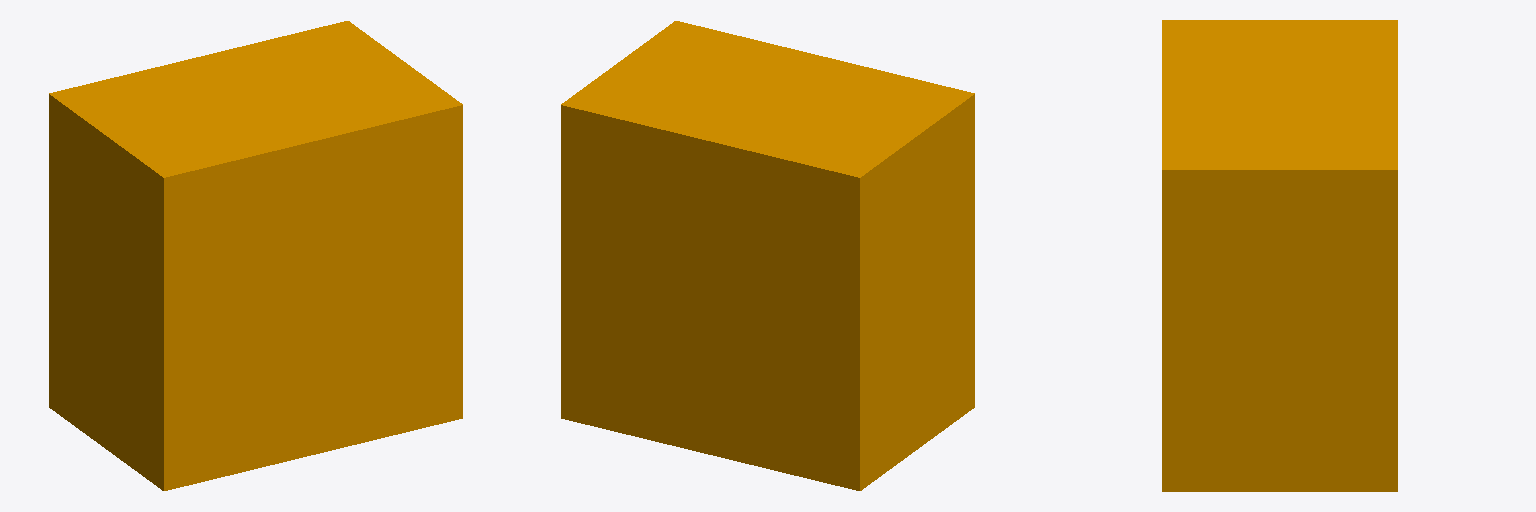
robot.urdf — object:
<?xml version="0.0"?>
	<robot name="object">
		<link name="object">
			<visual>
				<origin xyz="0 0 0"/>
				<geometry>
					<box size="0.6 0.4 0.6"/>
				</geometry>
			</visual>
			<inertial>
				<mass value="14.400"/>
			</inertial>
			<collision>
				<origin xyz="0 0 0"/>
				<geometry>
					<box size="0.6 0.4 0.6"/>
				</geometry>
			</collision>
		</link>

	</robot>

--- Render facts (derived) ---
Views: 3 orthographic renders of the robot side by side, from view 1: azimuth 30°, elevation 25°; view 2: azimuth 150°, elevation 25°; view 3: azimuth 270°, elevation 25°.
Robot: object — 1 links, 0 joints (none); root link object; default pose: every joint at zero.
Visible links, largest first — view 1: object; view 2: object; view 3: object.
Link boxes in pixels (x1,y1,x2,y2): object: (49,21,462,490); object: (561,21,974,490); object: (1162,20,1397,491).
Size in the robot's own frame: 0.6 by 0.4 by 0.6 metres.
Geometry: primitives only (box / cylinder / sphere), no mesh files.